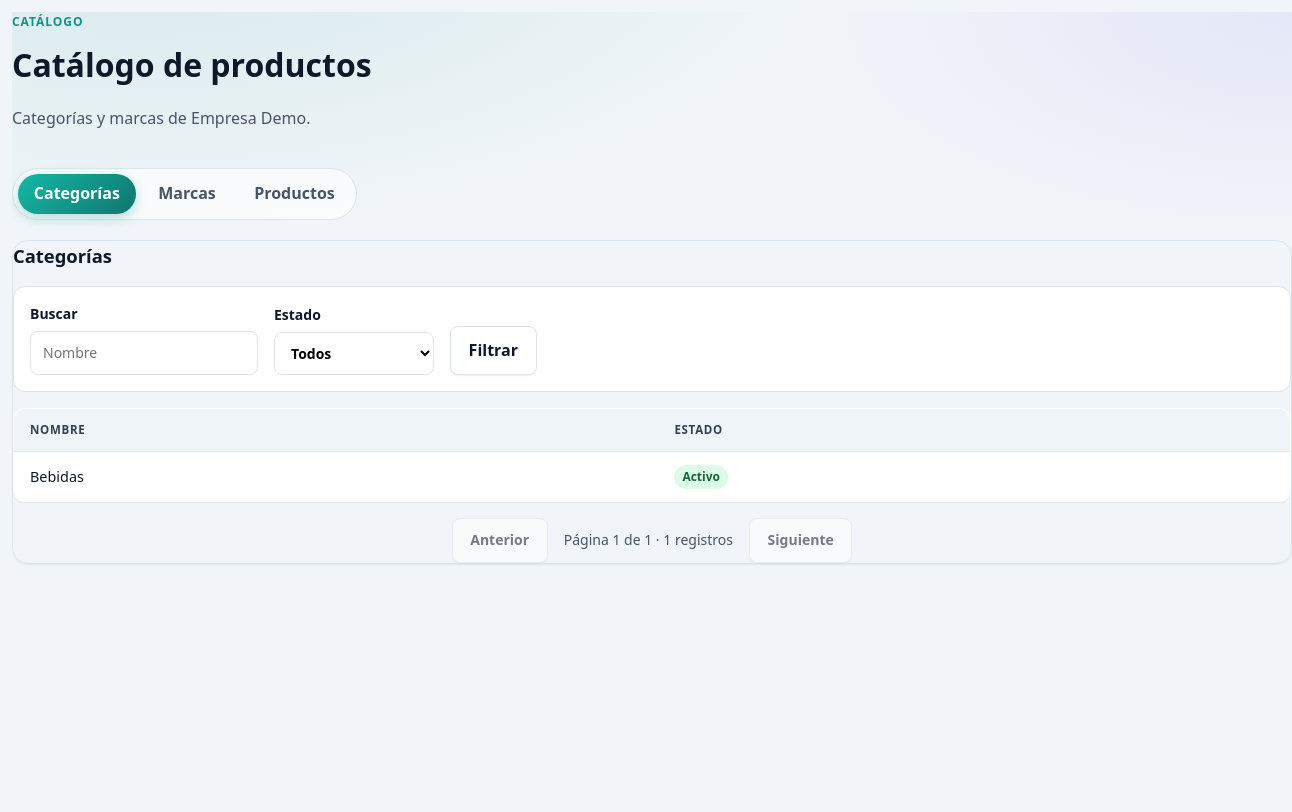
CatalogPage › muestra los productos en su pestaña
Check: the text "Bebidas" is shown, box [14,452,658,501]
Click the button "Productos" at [294, 194], box [238,174,351,214]
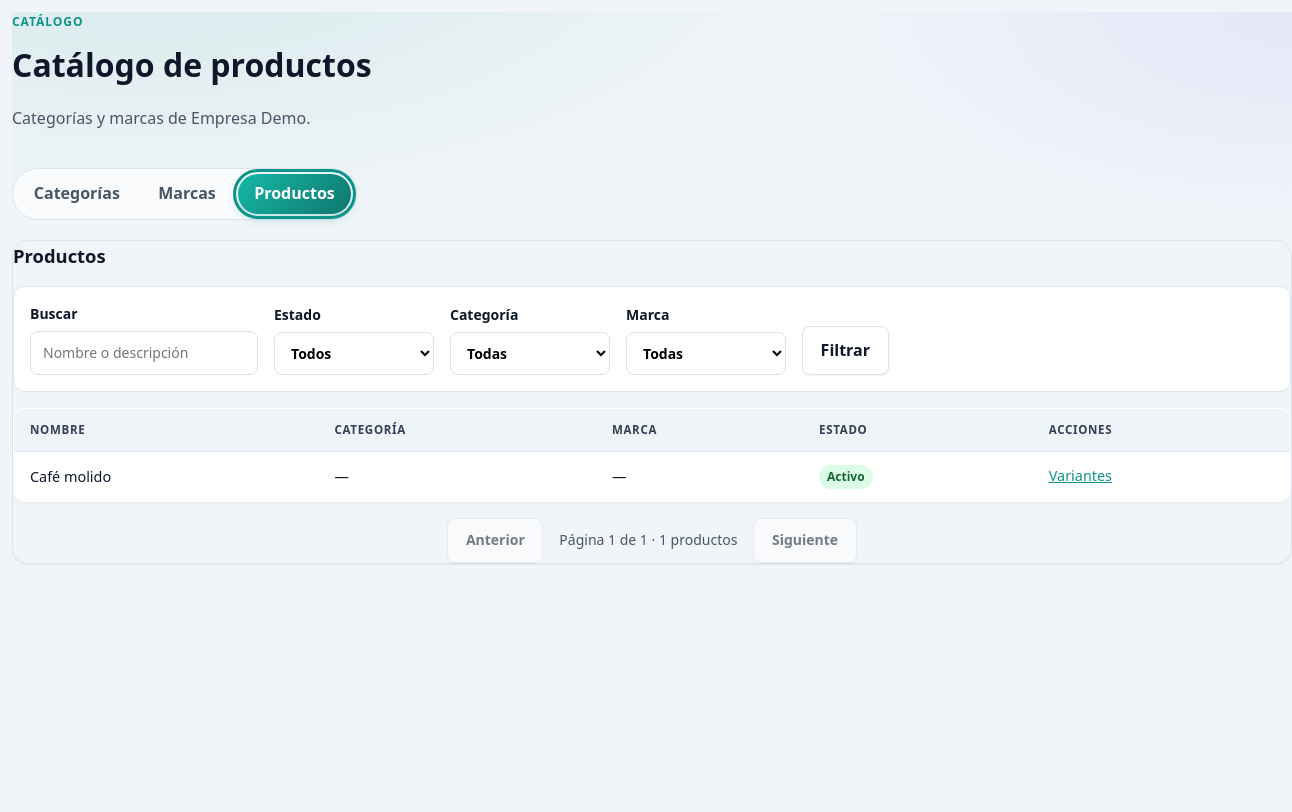
Check: the text "Café molido" is shown, box [14,452,318,501]
